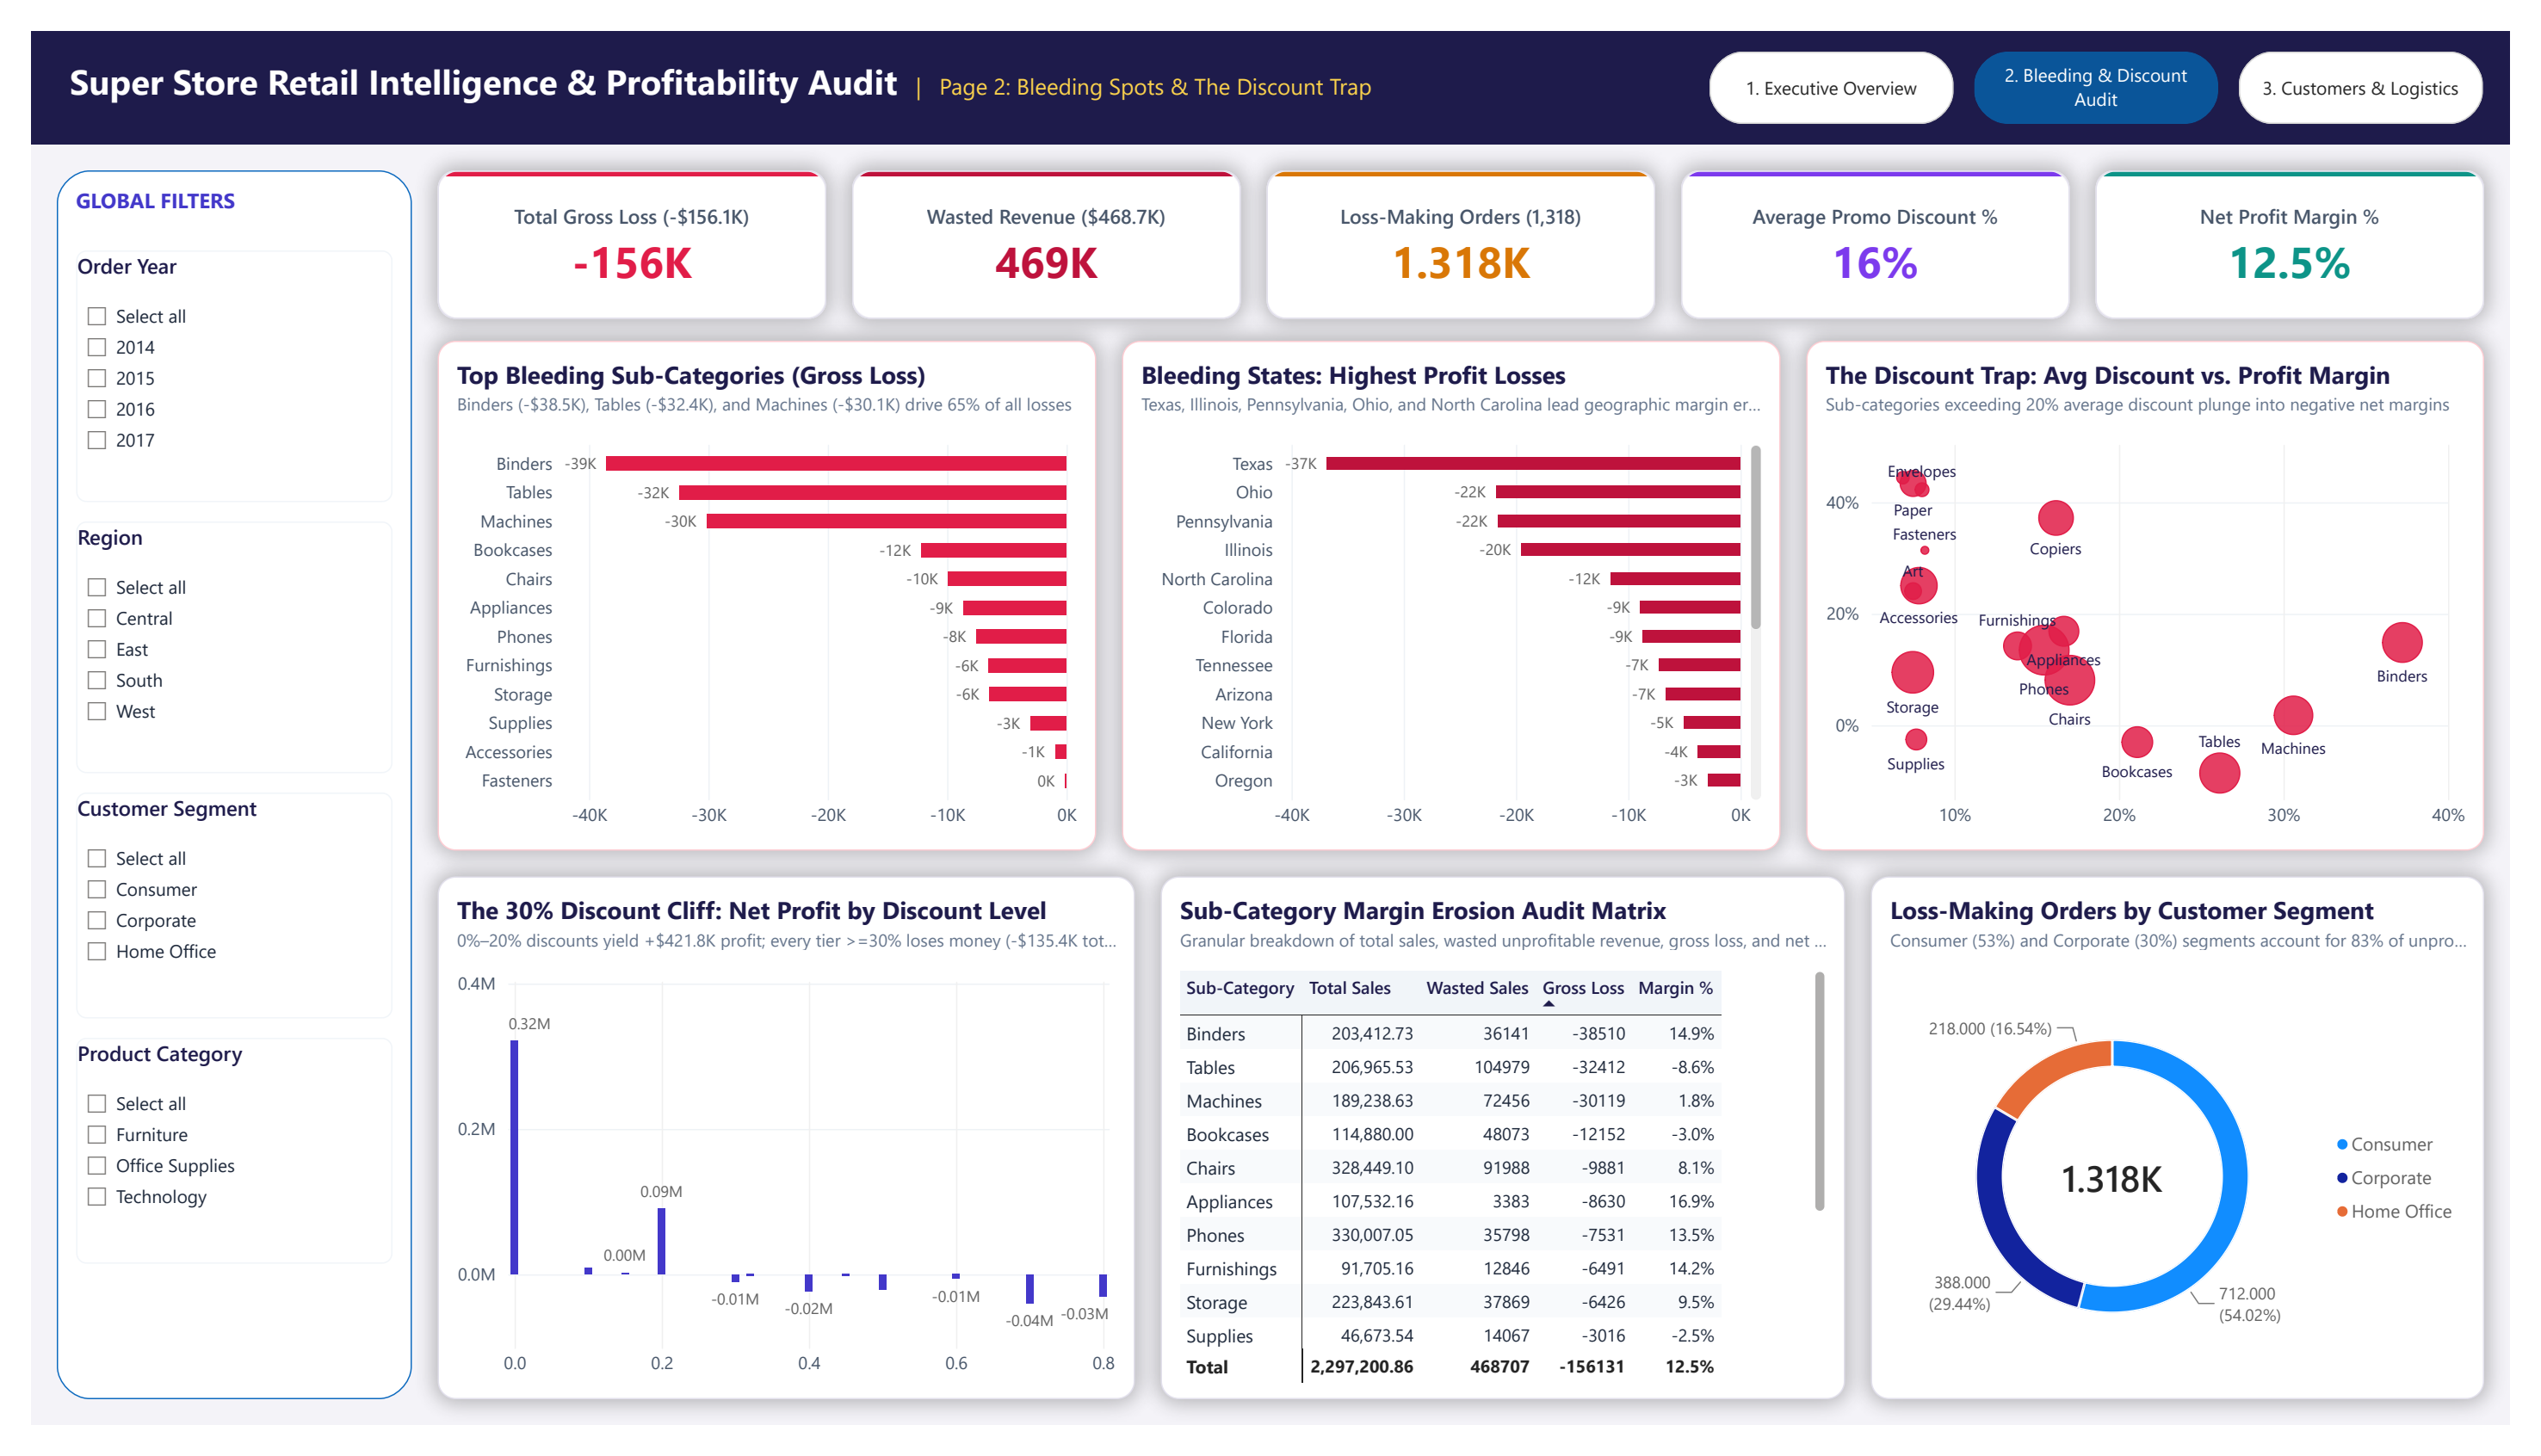

The dashboard page shown, as its layout file describes it:
{"tool":"powerbi","page":{"name":"2. Bleeding & Discount Audit","canvas":[1920,1080],"ordinal":1},"visuals":[{"type":"shape","box":[0,0,1920,88],"z":0},{"type":"shape","box":[20,108,275,952],"z":1000},{"type":"textbox","box":[20,6,1260,78],"z":2000},{"type":"textbox","box":[35,120,245,42],"z":2500},{"type":"clusteredBarChart","title":"Top Bleeding Sub-Categories (Gross Loss)","fields":{"Category":["Clean_Super_Store.Sub-Category"],"Y":["Measures_.Total Loss"]},"box":[315,240,510,395],"z":4000},{"type":"clusteredBarChart","title":"Bleeding States: Highest Profit Losses","fields":{"Category":["Clean_Super_Store.State"],"Y":["Measures_.Total Loss"]},"box":[845,240,510,395],"z":4500},{"type":"scatterChart","title":"The Discount Trap: Avg Discount vs. Profit Margin","fields":{"Category":["Clean_Super_Store.Sub-Category"],"X":["Measures_.Average Discount"],"Y":["Measures_.Profit Margin"],"Size":["Measures_.Total Sales"]},"box":[1375,240,525,395],"z":5000},{"type":"clusteredColumnChart","title":"The 30% Discount Cliff: Net Profit by Discount Level","fields":{"Category":["Clean_Super_Store.Discount"],"Y":["Measures_.Total Profit"]},"box":[315,655,540,405],"z":5200},{"type":"pivotTable","title":"Sub-Category Margin Erosion Audit Matrix","fields":{"Rows":["Clean_Super_Store.Sub-Category"],"Values":["Measures_.Total Sales","Measures_.Wasted Sales","Measures_.Total Loss","Measures_.Profit Margin"]},"box":[875,655,530,405],"z":5400},{"type":"donutChart","title":"Loss-Making Orders by Customer Segment","fields":{"Category":["Clean_Super_Store.Segment"],"Y":["Measures_.Loss Orders"]},"box":[1425,655,475,405],"z":5600},{"type":"cardVisual","title":"Total Gross Loss (-$156.1K)","fields":{"Data":["Measures_.Total Loss"]},"box":[315,108,301,115],"z":6000},{"type":"cardVisual","title":"Wasted Revenue ($468.7K)","fields":{"Data":["Measures_.Wasted Sales"]},"box":[636,108,301,115],"z":6500},{"type":"cardVisual","title":"Loss-Making Orders (1,318)","fields":{"Data":["Measures_.Loss Orders"]},"box":[957,108,301,115],"z":7000},{"type":"cardVisual","title":"Average Promo Discount %","fields":{"Data":["Measures_.Average Discount"]},"box":[1278,108,301,115],"z":7500},{"type":"cardVisual","title":"Net Profit Margin %","fields":{"Data":["Measures_.Profit Margin"]},"box":[1599,108,301,115],"z":8000},{"type":"slicer","title":"Order Year","fields":{"Values":["Clean_Super_Store.Order Year"]},"box":[35,170,245,195],"z":11000},{"type":"slicer","title":"Region","fields":{"Values":["Clean_Super_Store.Region"]},"box":[35,380,245,195],"z":11100},{"type":"slicer","title":"Customer Segment","fields":{"Values":["Clean_Super_Store.Segment"]},"box":[35,590,245,175],"z":11200},{"type":"slicer","title":"Product Category","fields":{"Values":["Clean_Super_Store.Category"]},"box":[35,780,245,175],"z":11300},{"type":"pageNavigator","box":[1300,16,600,56],"z":15000}]}

Visuals, with their boxes in screenshot pixels (x1, y1, x2, y2), scaled from the page's 1920x1080 canvas onto the 2541x1456 screenshot:
shape: pyautogui.locateOnScreen(0, 0, 2540, 119)
shape: pyautogui.locateOnScreen(27, 145, 391, 1429)
textbox: pyautogui.locateOnScreen(27, 8, 1694, 114)
textbox: pyautogui.locateOnScreen(46, 162, 370, 219)
"Top Bleeding Sub-Categories (Gross Loss)" clusteredBarChart: pyautogui.locateOnScreen(417, 324, 1091, 856)
"Bleeding States: Highest Profit Losses" clusteredBarChart: pyautogui.locateOnScreen(1118, 324, 1793, 856)
"The Discount Trap: Avg Discount vs. Profit Margin" scatterChart: pyautogui.locateOnScreen(1820, 324, 2514, 856)
"The 30% Discount Cliff: Net Profit by Discount Level" clusteredColumnChart: pyautogui.locateOnScreen(417, 883, 1132, 1429)
"Sub-Category Margin Erosion Audit Matrix" pivotTable: pyautogui.locateOnScreen(1158, 883, 1859, 1429)
"Loss-Making Orders by Customer Segment" donutChart: pyautogui.locateOnScreen(1886, 883, 2514, 1429)
"Total Gross Loss (-$156.1K)" cardVisual: pyautogui.locateOnScreen(417, 145, 815, 300)
"Wasted Revenue ($468.7K)" cardVisual: pyautogui.locateOnScreen(842, 145, 1240, 300)
"Loss-Making Orders (1,318)" cardVisual: pyautogui.locateOnScreen(1266, 145, 1665, 300)
"Average Promo Discount %" cardVisual: pyautogui.locateOnScreen(1691, 145, 2090, 300)
"Net Profit Margin %" cardVisual: pyautogui.locateOnScreen(2116, 145, 2514, 300)
"Order Year" slicer: pyautogui.locateOnScreen(46, 229, 370, 492)
"Region" slicer: pyautogui.locateOnScreen(46, 512, 370, 775)
"Customer Segment" slicer: pyautogui.locateOnScreen(46, 795, 370, 1031)
"Product Category" slicer: pyautogui.locateOnScreen(46, 1052, 370, 1287)
pageNavigator: pyautogui.locateOnScreen(1721, 22, 2514, 97)
